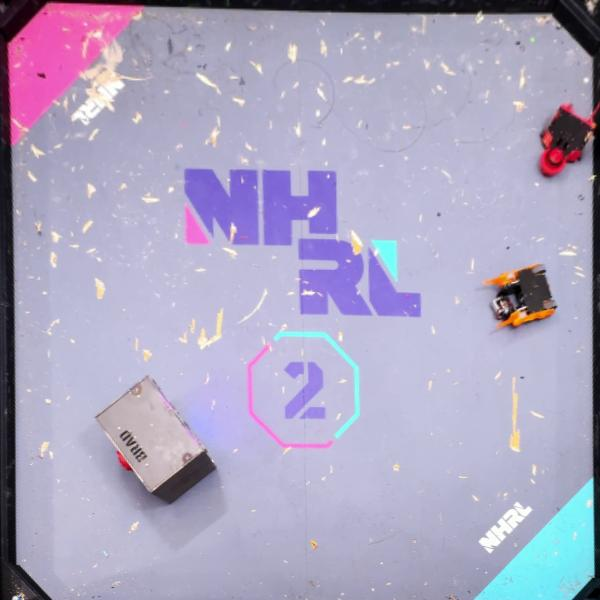housebot: (94, 375, 216, 508)
robot: (484, 262, 558, 330), (539, 102, 600, 177)
